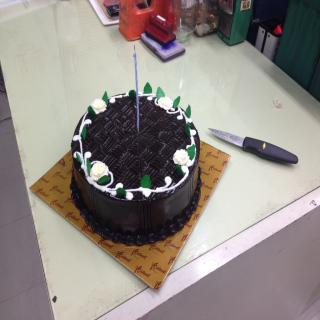Cake: (70, 81, 202, 247)
